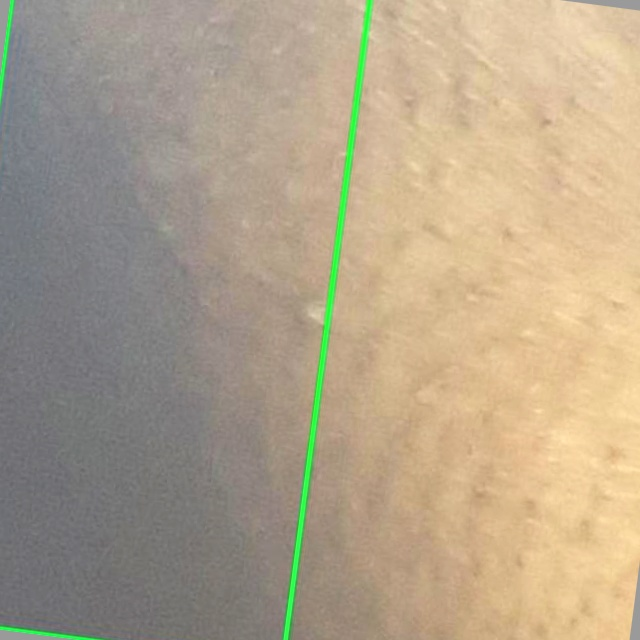Contact Dermatitis: (0, 0, 369, 639)
